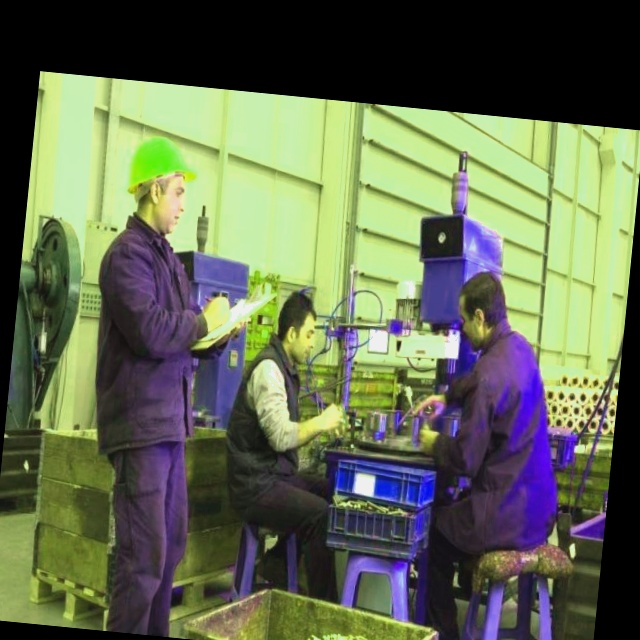Con_Casco: (125, 134, 197, 226)
Sin_Casco_Mascarrilla: (456, 269, 512, 344), (274, 290, 320, 361)
